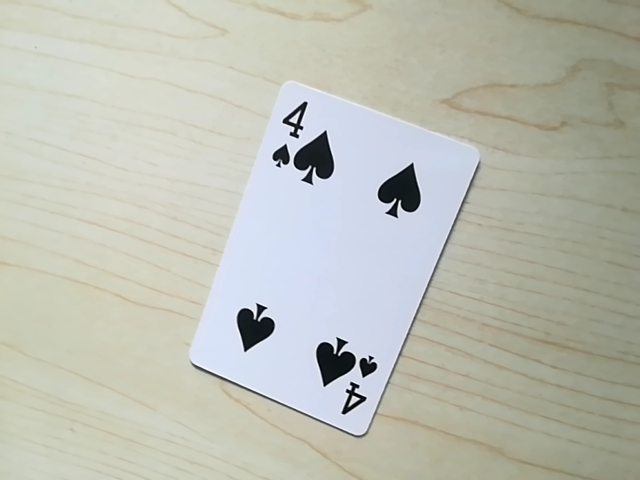ht 4: (266, 92, 319, 185), (326, 351, 379, 424)
